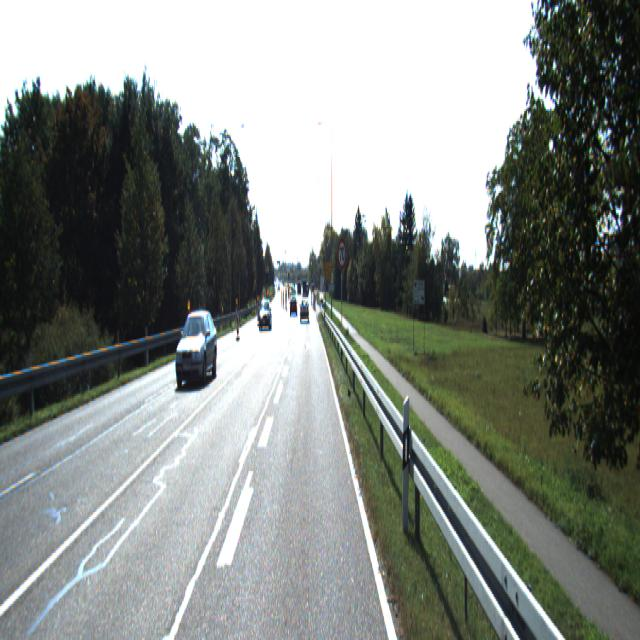Car: (173, 306, 218, 394), (258, 299, 272, 332), (300, 298, 310, 322)
